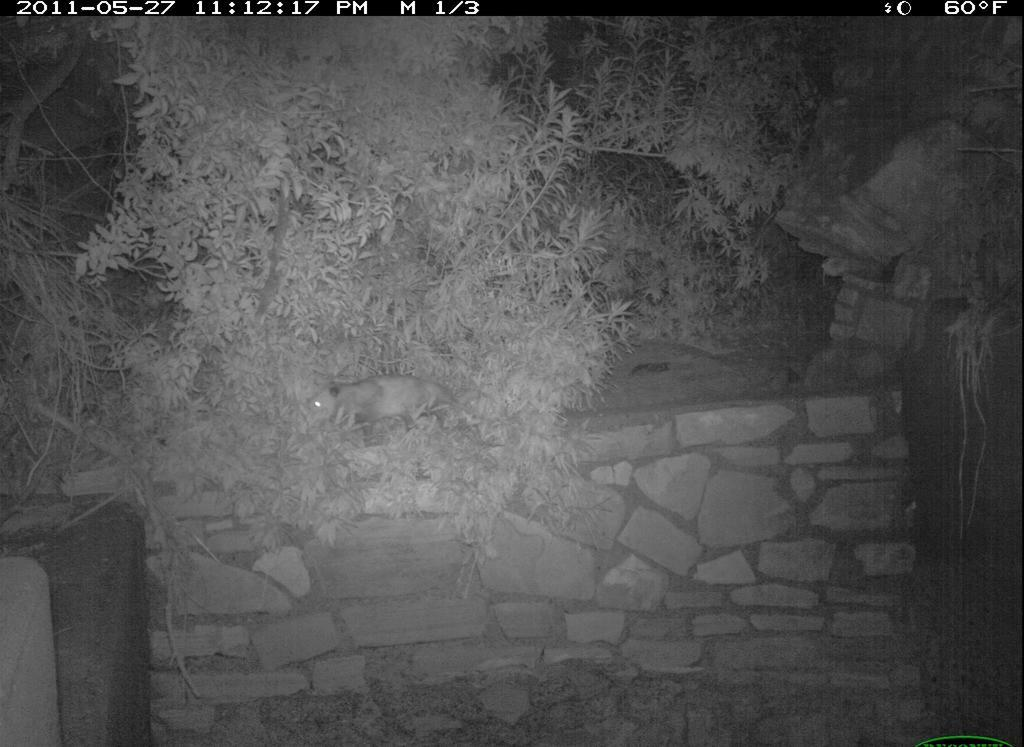opossum: (305, 370, 509, 440)
